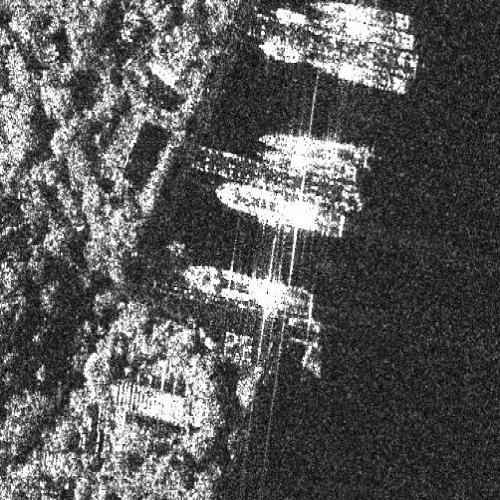ship: (216, 183, 346, 237), (184, 266, 314, 317), (307, 58, 408, 95), (316, 17, 413, 50), (258, 152, 356, 181), (255, 135, 360, 162), (313, 3, 411, 31), (260, 42, 302, 63), (274, 7, 308, 25)
